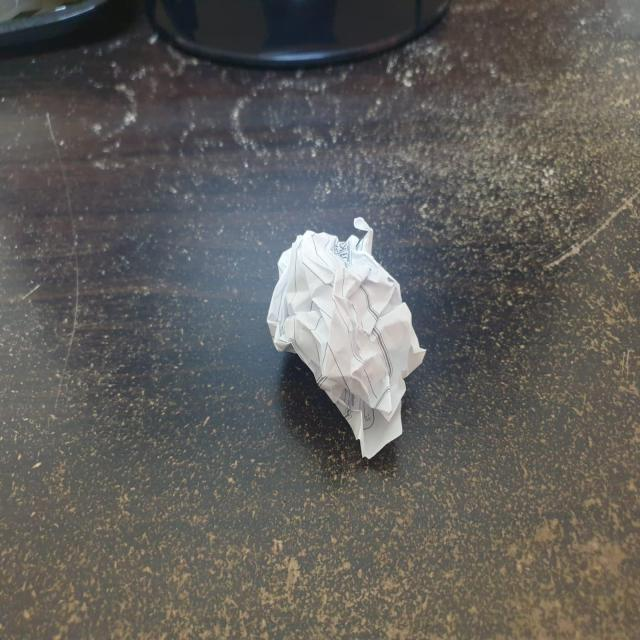cardboard paper: (266, 216, 423, 456)
